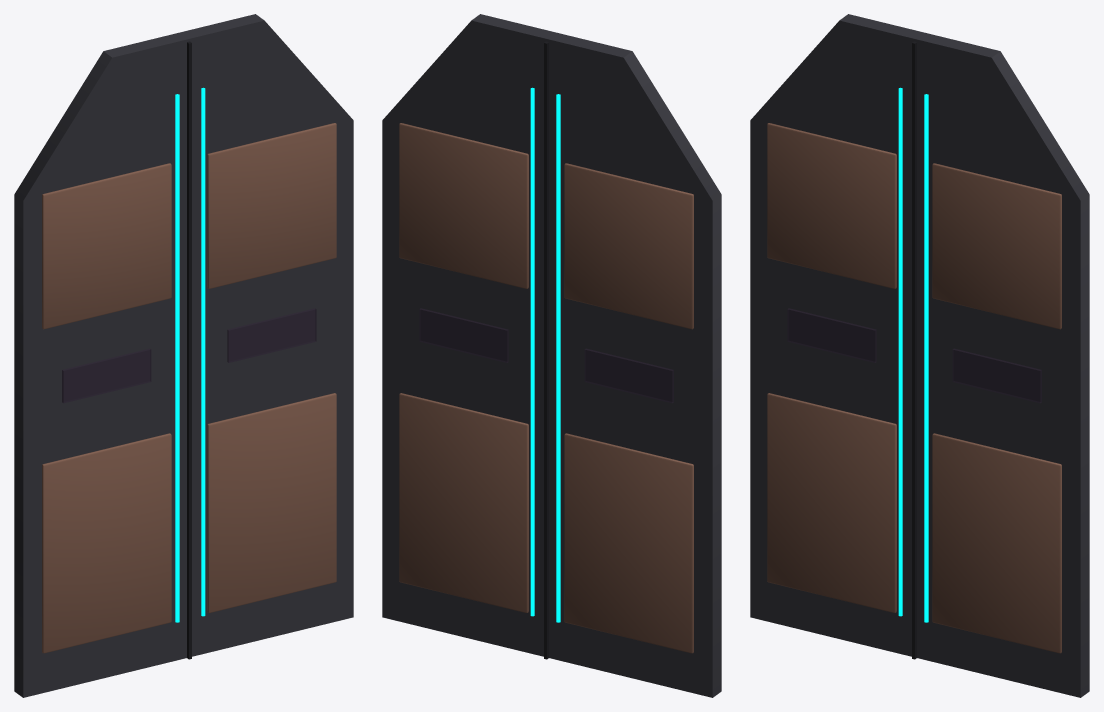
File: KIT_Porta_Portal.glb
3 renders of one model, left to right at view 1: azimuth 30°, elevation 25°; view 2: azimuth 150°, elevation 25°; view 3: azimuth 330°, elevation 25°, orthographic.
Visible parts, largest first — view 1: KIT_Porta_Portal; view 2: KIT_Porta_Portal; view 3: KIT_Porta_Portal.
Part boxes in pixels (bbox=[...]): KIT_Porta_Portal: bbox=[14, 14, 353, 697]; KIT_Porta_Portal: bbox=[382, 14, 721, 697]; KIT_Porta_Portal: bbox=[750, 14, 1089, 697].
Bounding box in the file's own units: 1.28 × 2.29 × 0.1003.
